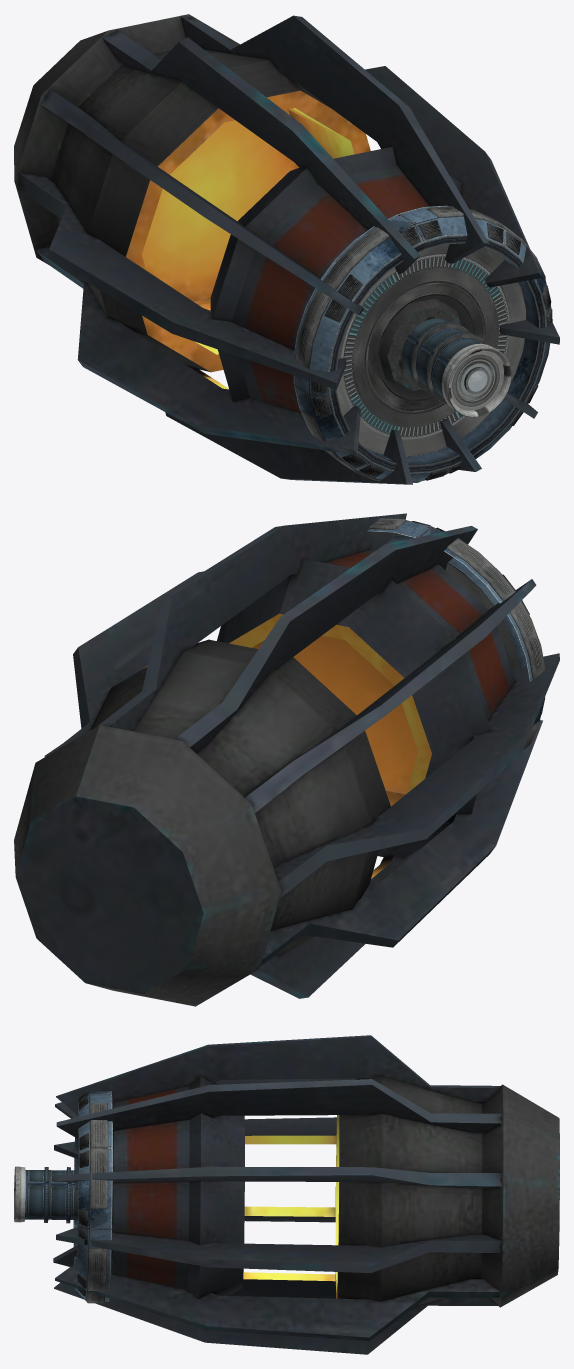
File: astro_obliterator_thing.glb
The picture shows the model from 3 angles, top to bottom: view 1: azimuth 30°, elevation 25°; view 2: azimuth 150°, elevation 25°; view 3: azimuth 270°, elevation 25°; orthographic projection. The views are drawn at different scales.
Visible parts, largest first — view 1: Object_10, Object_11; view 2: Object_10, Object_11; view 3: Object_10, Object_11.
Boxes of the visible parts, x1=… form: Object_10: x1=14, y1=14, x2=559, y2=484; Object_11: x1=293, y1=205, x2=552, y2=482; Object_10: x1=14, y1=513, x2=559, y2=1006; Object_11: x1=367, y1=518, x2=545, y2=749; Object_10: x1=53, y1=1035, x2=559, y2=1354; Object_11: x1=14, y1=1091, x2=112, y2=1303.
Bounding box in the file's own units: 78.21 × 75.89 × 132.
2 materials, 2 textured.
